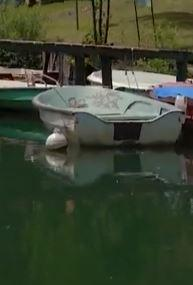Ship: (29, 84, 190, 161)
